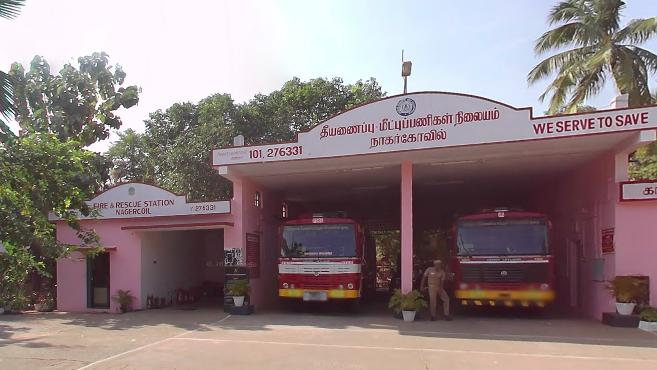Fire-engine: (451, 204, 566, 316), (271, 212, 376, 303)
